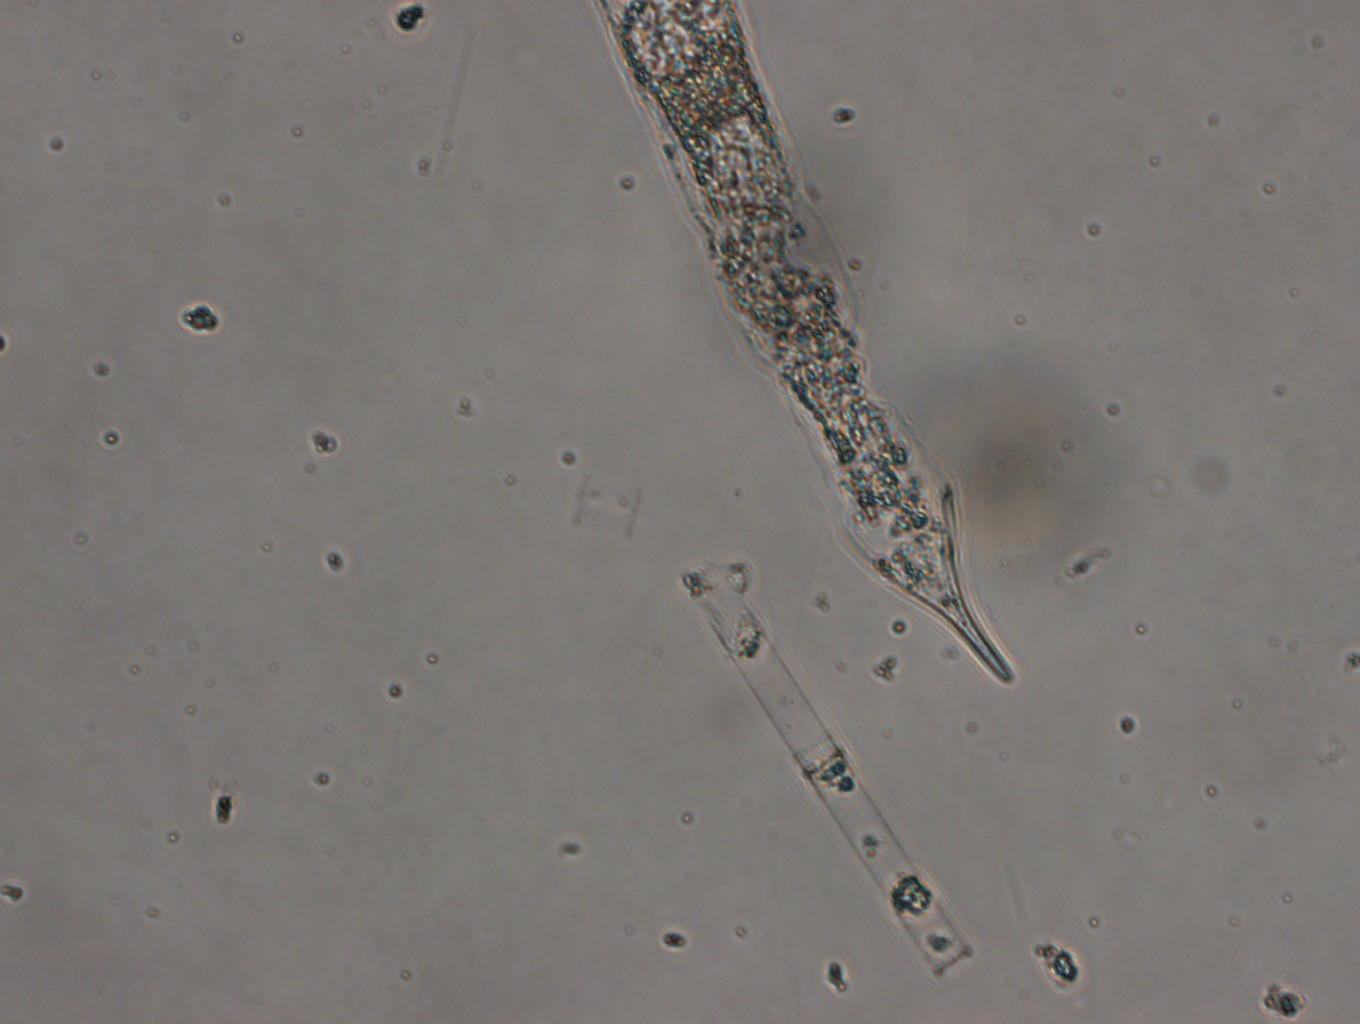rhizosolenia: (599, 1, 1022, 686)
skeletonema: (684, 563, 973, 978)
